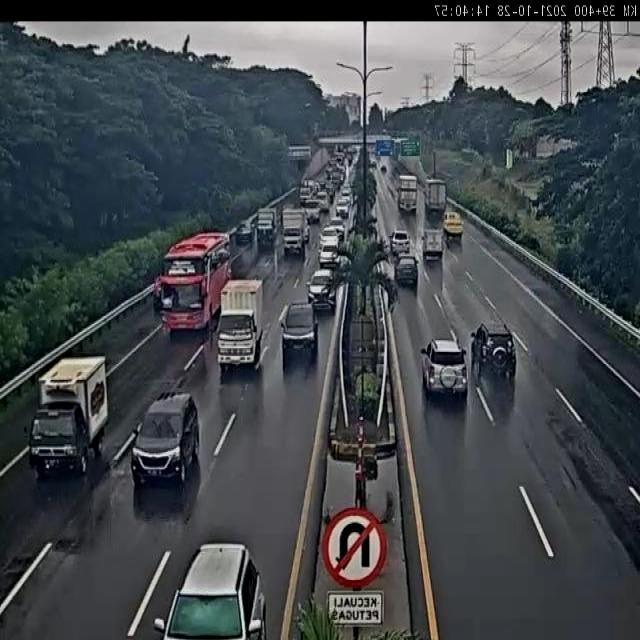Bus: (156, 230, 231, 336)
Car: (132, 393, 198, 487), (420, 337, 470, 400), (470, 320, 520, 382), (280, 302, 318, 370), (307, 268, 337, 312), (394, 255, 419, 287), (320, 224, 345, 252), (318, 244, 341, 270), (390, 230, 411, 256), (335, 195, 351, 220)
Truck: (30, 355, 110, 473), (215, 276, 265, 376), (281, 207, 309, 257), (256, 207, 279, 249), (425, 178, 447, 217), (442, 207, 466, 242), (422, 228, 444, 264), (398, 174, 418, 212), (306, 205, 320, 224)
